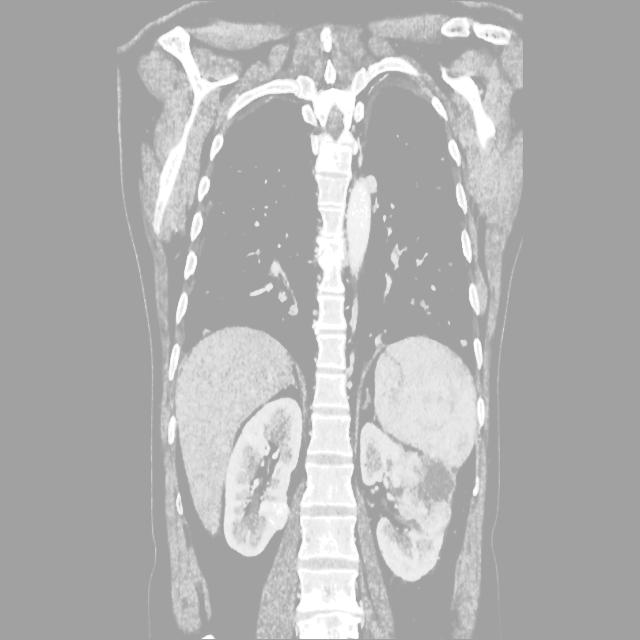TUMOR: (84, 330, 558, 508)
